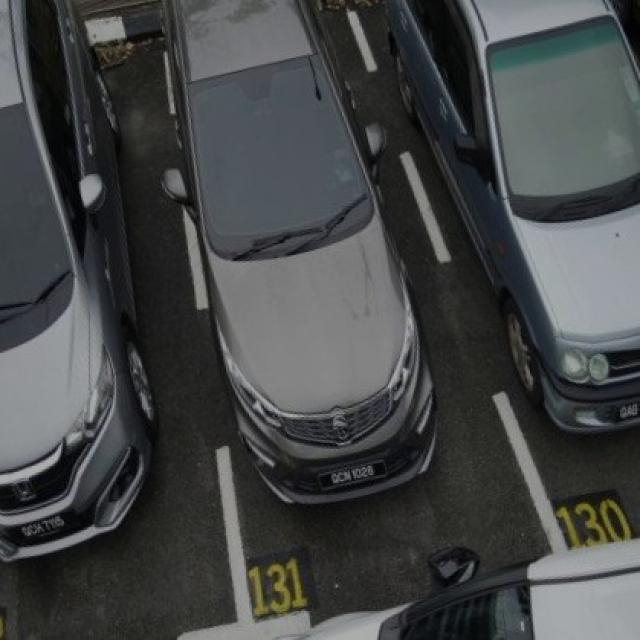Legalparking: (162, 0, 434, 503), (389, 0, 638, 428), (0, 0, 156, 548)
